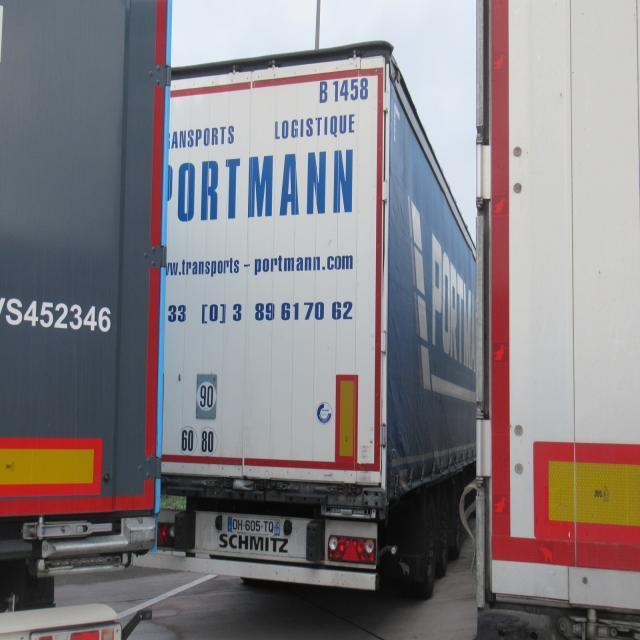Autre: (210, 505, 329, 569)
